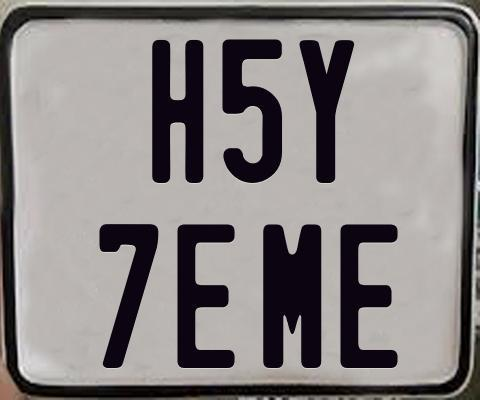5: (222, 39, 285, 186)
7: (96, 222, 160, 371)
E: (337, 222, 397, 372), (174, 222, 233, 368)
H: (152, 38, 206, 186)
M: (263, 224, 326, 371)
Y: (296, 37, 354, 181)
